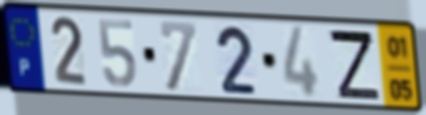2: (211, 20, 263, 97), (50, 14, 89, 88)
4: (281, 22, 325, 102)
5: (95, 17, 138, 90)
7: (157, 19, 201, 94)
Z: (325, 27, 383, 103)
